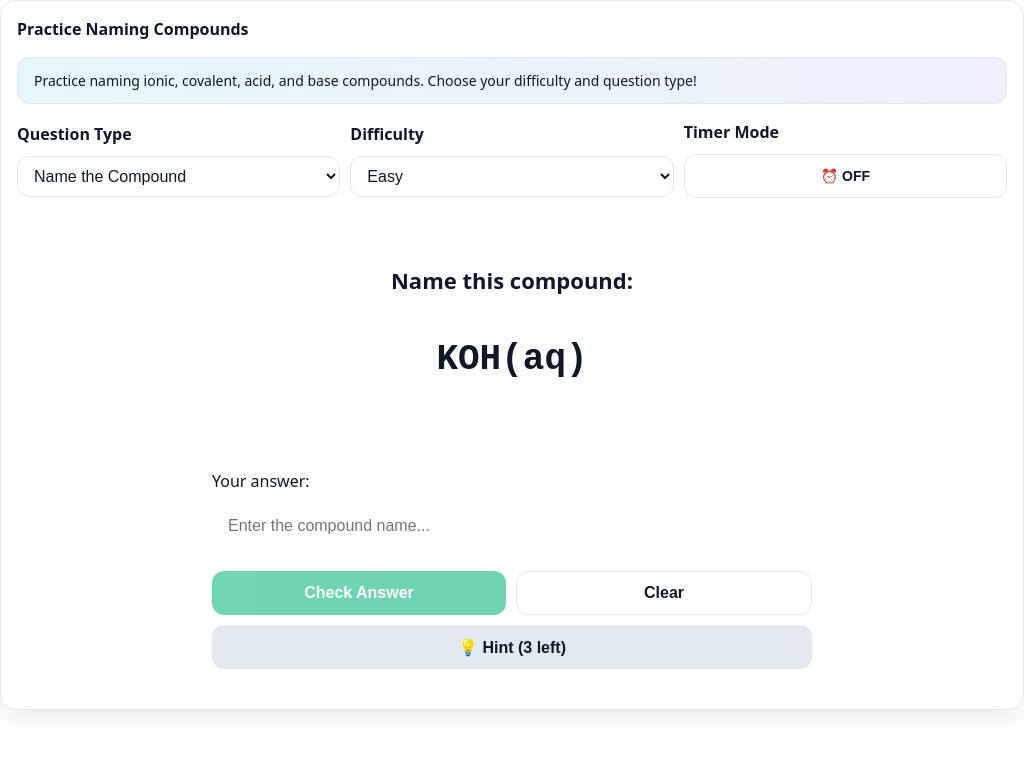
Test case: Practice Component › allows changing question type to type identification
Select "Identify Compound Type" in the dropdown labelled "Question Type". click: (179, 176)
box: [17,156,340,196]
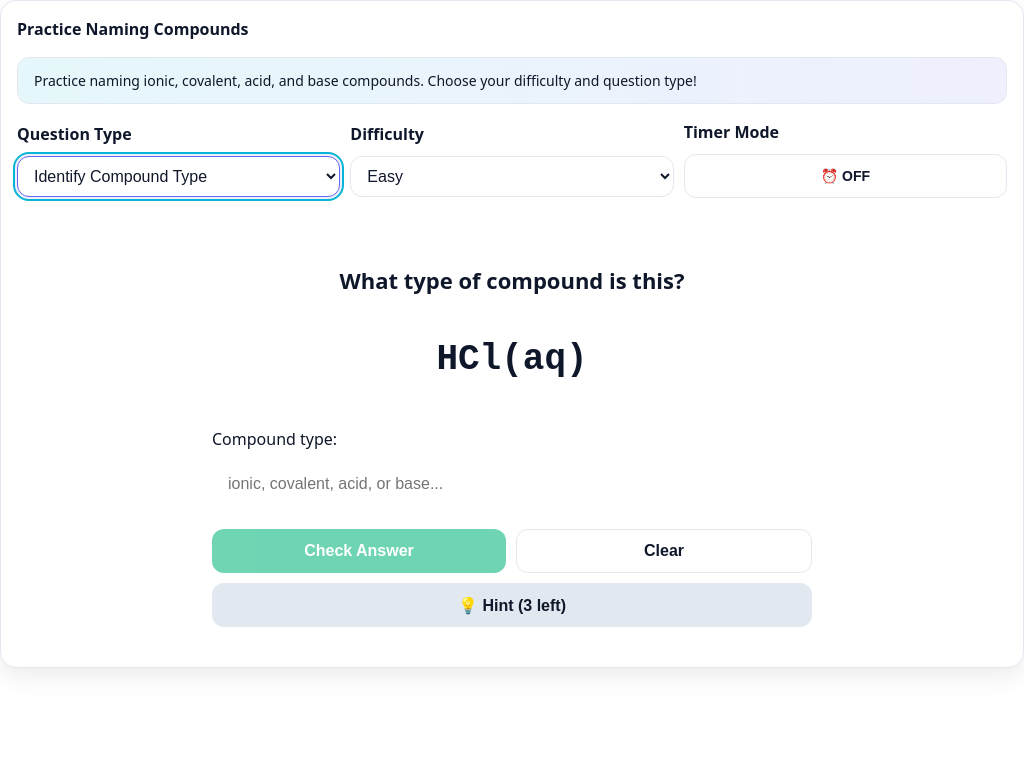
Expected: the heading "What type of compound is this?" is shown, [340,265,684,295]
